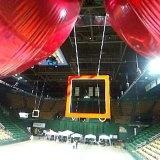Orange_Square_GShape: (65, 75, 110, 118)
Yellow_Square_GShape: (33, 110, 39, 118)
